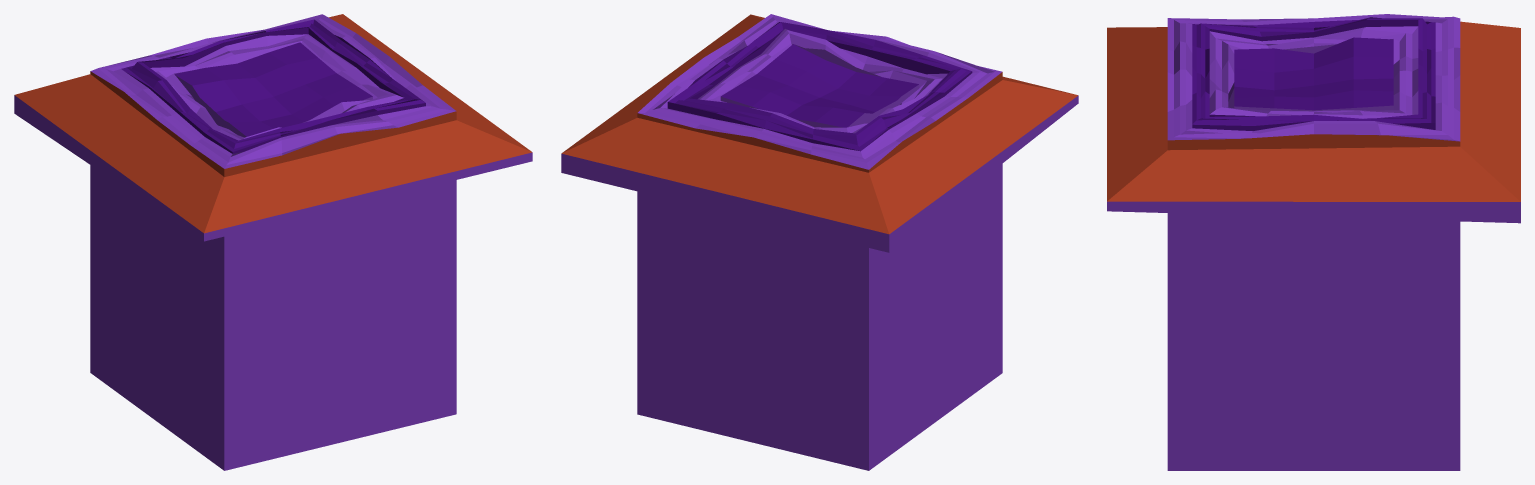
File: carpetTile.glb
3 renders of one model, left to right at view 1: azimuth 30°, elevation 25°; view 2: azimuth 150°, elevation 25°; view 3: azimuth 270°, elevation 25°, orthographic. The views are drawn at different scales.
Visible parts, largest first — view 1: Cylinder; view 2: Cylinder; view 3: Cylinder.
Boxes of the visible parts, left/top/right/bottom form: Cylinder: left=14, top=14, right=532, bottom=470; Cylinder: left=561, top=14, right=1078, bottom=470; Cylinder: left=1107, top=14, right=1520, bottom=470.
Bounding box in the file's own units: 1.42 × 1.3 × 1.42.
Materials: 1 (1 with a texture image).
